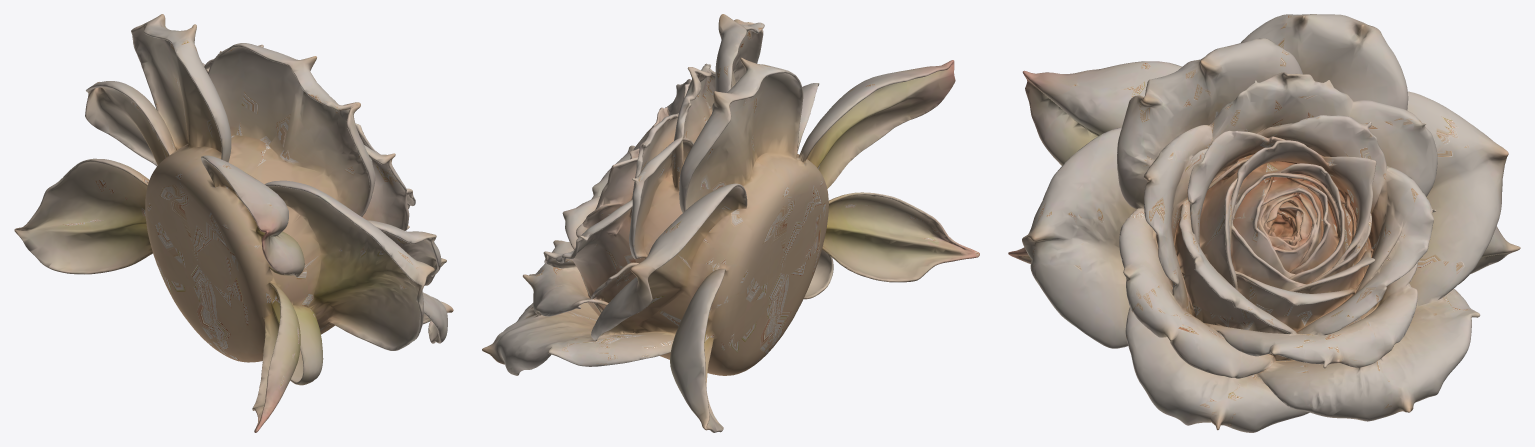
The model's file is rose.glb.
3 views of the same model, side by side, from view 1: azimuth 30°, elevation 25°; view 2: azimuth 150°, elevation 25°; view 3: azimuth 270°, elevation 25° (orthographic). The views are drawn at different scales.
Visible parts, largest first — view 1: tripo_node_5b754a41-07a4-4604-9cb2-6891b23cbf67; view 2: tripo_node_5b754a41-07a4-4604-9cb2-6891b23cbf67; view 3: tripo_node_5b754a41-07a4-4604-9cb2-6891b23cbf67.
Part boxes in pixels (x1,y1,x2,y2): tripo_node_5b754a41-07a4-4604-9cb2-6891b23cbf67: [14, 14, 453, 432]; tripo_node_5b754a41-07a4-4604-9cb2-6891b23cbf67: [482, 14, 979, 432]; tripo_node_5b754a41-07a4-4604-9cb2-6891b23cbf67: [1008, 14, 1520, 432].
Size of the model in its own units: 0.6819 by 0.7094 by 0.9995.
Materials: 1 (1 with a texture image).
